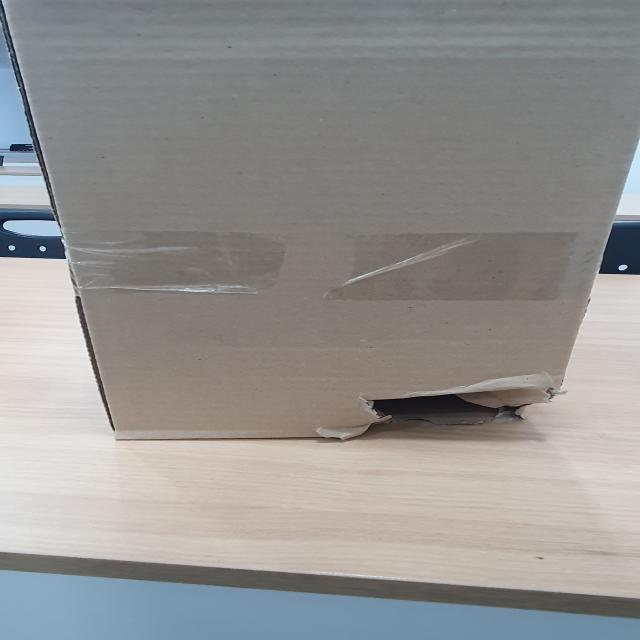hole: (358, 370, 568, 443)
